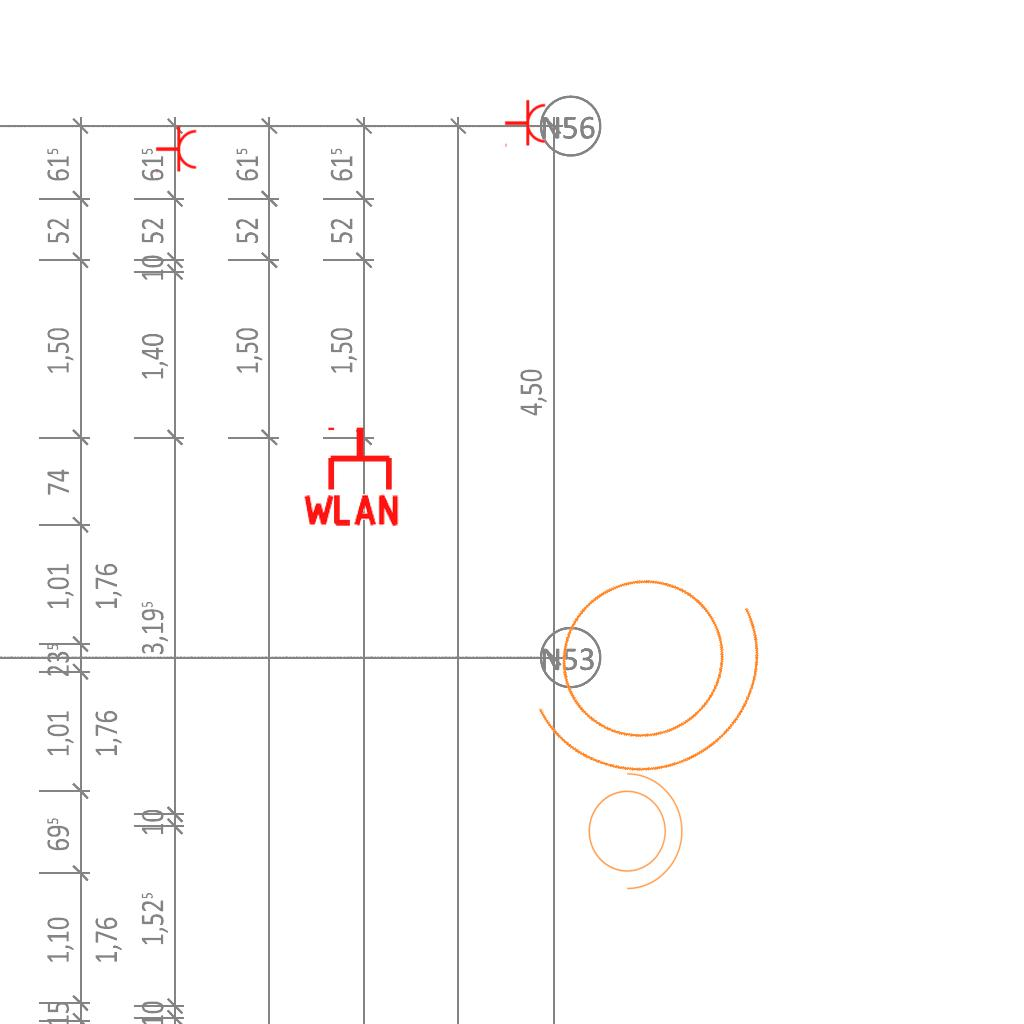Scheinwerfer_fuer_Alarmbeleuchtung: (485, 505, 821, 824), (576, 762, 688, 894)
Schukosteckdose_einfach: (155, 125, 198, 175), (504, 99, 547, 149)
WLAN: (299, 423, 403, 528)
